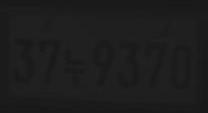0: (170, 45, 191, 89)
3: (13, 38, 35, 84), (117, 42, 138, 88)
7: (143, 42, 167, 87), (39, 39, 61, 81)
9: (92, 40, 115, 86)
누: (64, 48, 84, 86)
